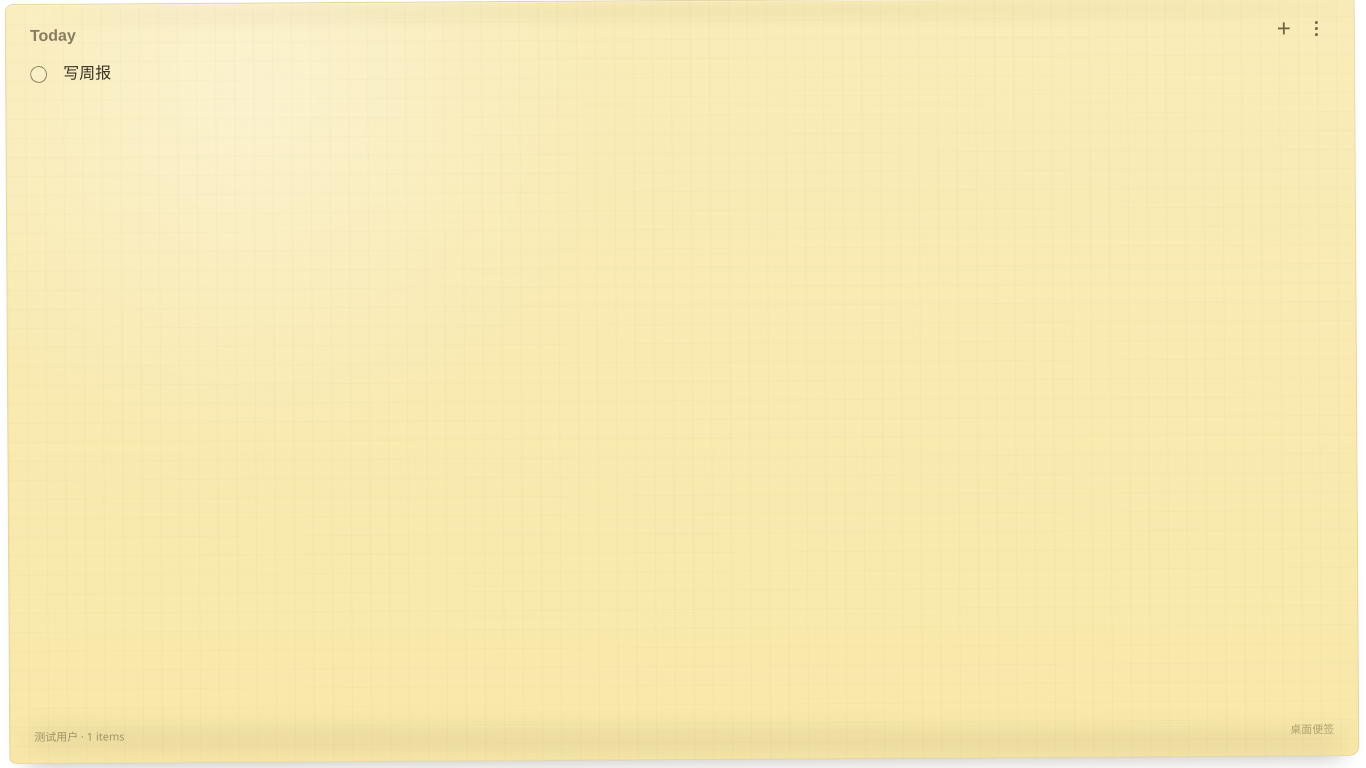
it: 桌面便签核心交互 › 生命周期日志展示挂起、激活与系统自动归档事件
Click the button with class "task-main" at coordinates (87, 73), box [63,55,1330,90]
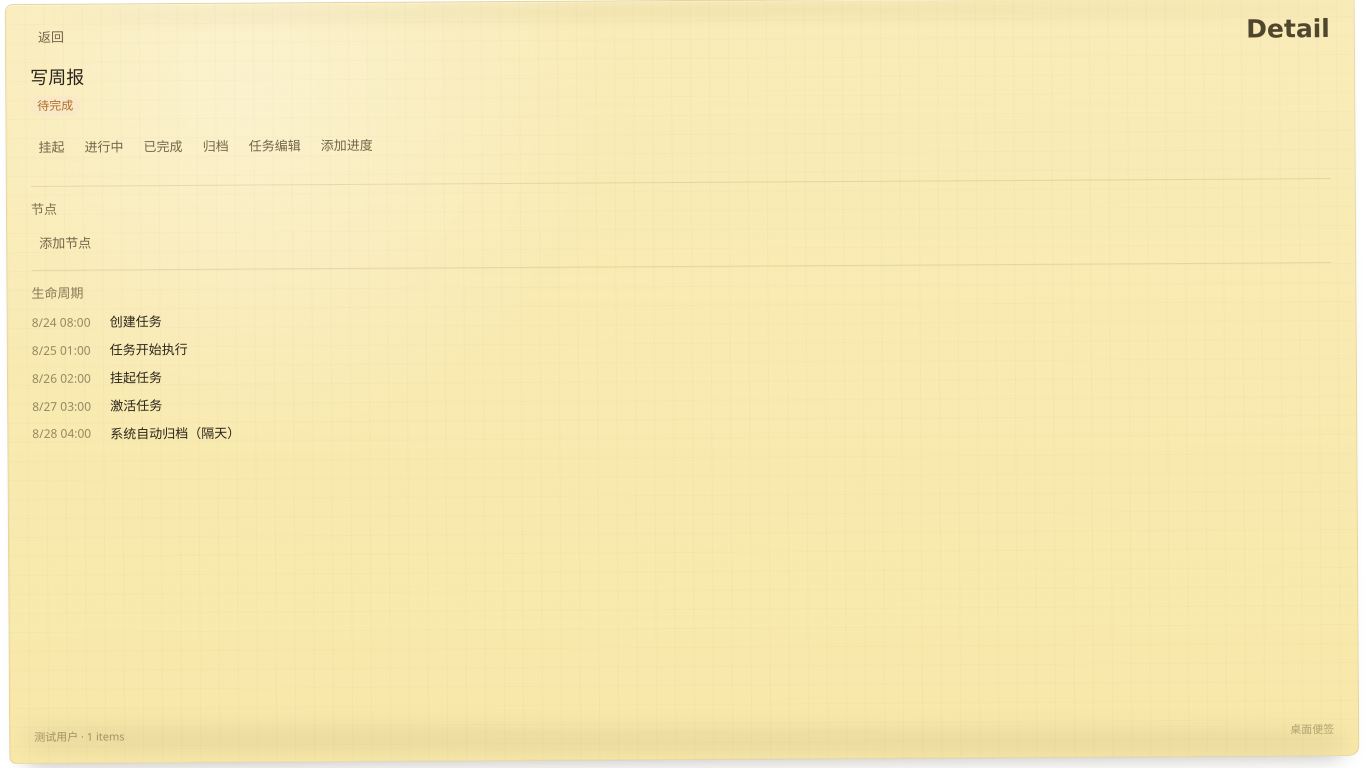
Result: the element with class "event-list" shows "任务开始执行" at [110,340,188,359]
Result: the element with class "event-list" shows "挂起任务" at [110,368,162,387]
Result: the element with class "event-list" shows "激活任务" at [110,396,162,414]
